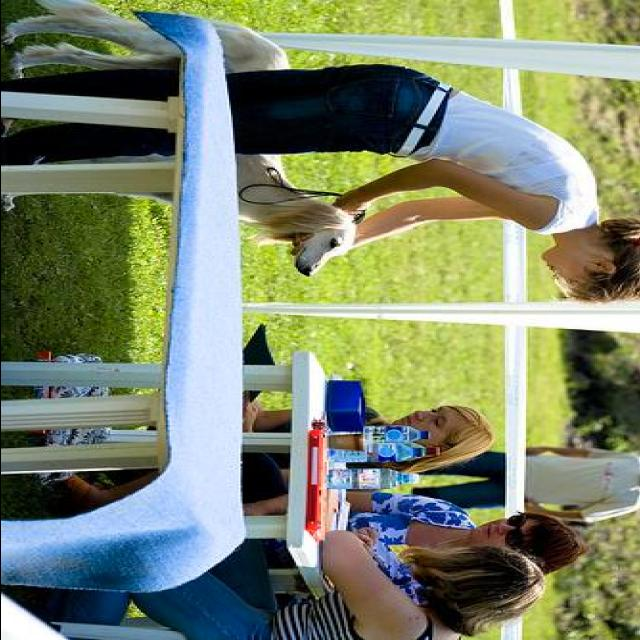saluki: (10, 0, 358, 278)
